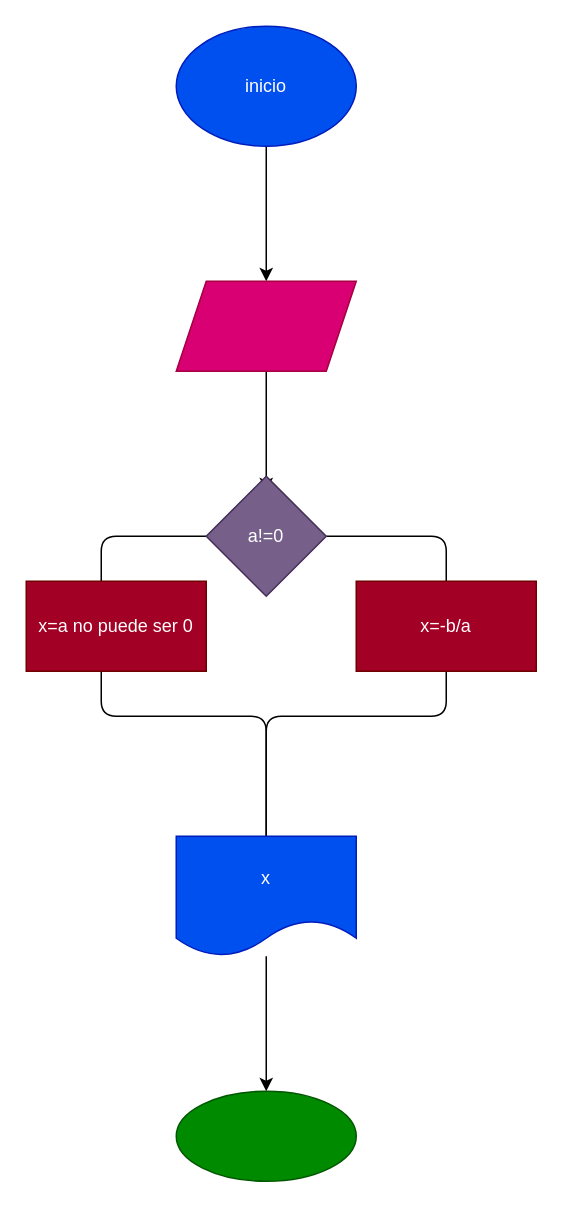
This 563x1208 diagram has some shape labels left out. The centre of each missing label's shape, as x and y in pixels:
a,b: [265,325]
fin: [265,1135]
